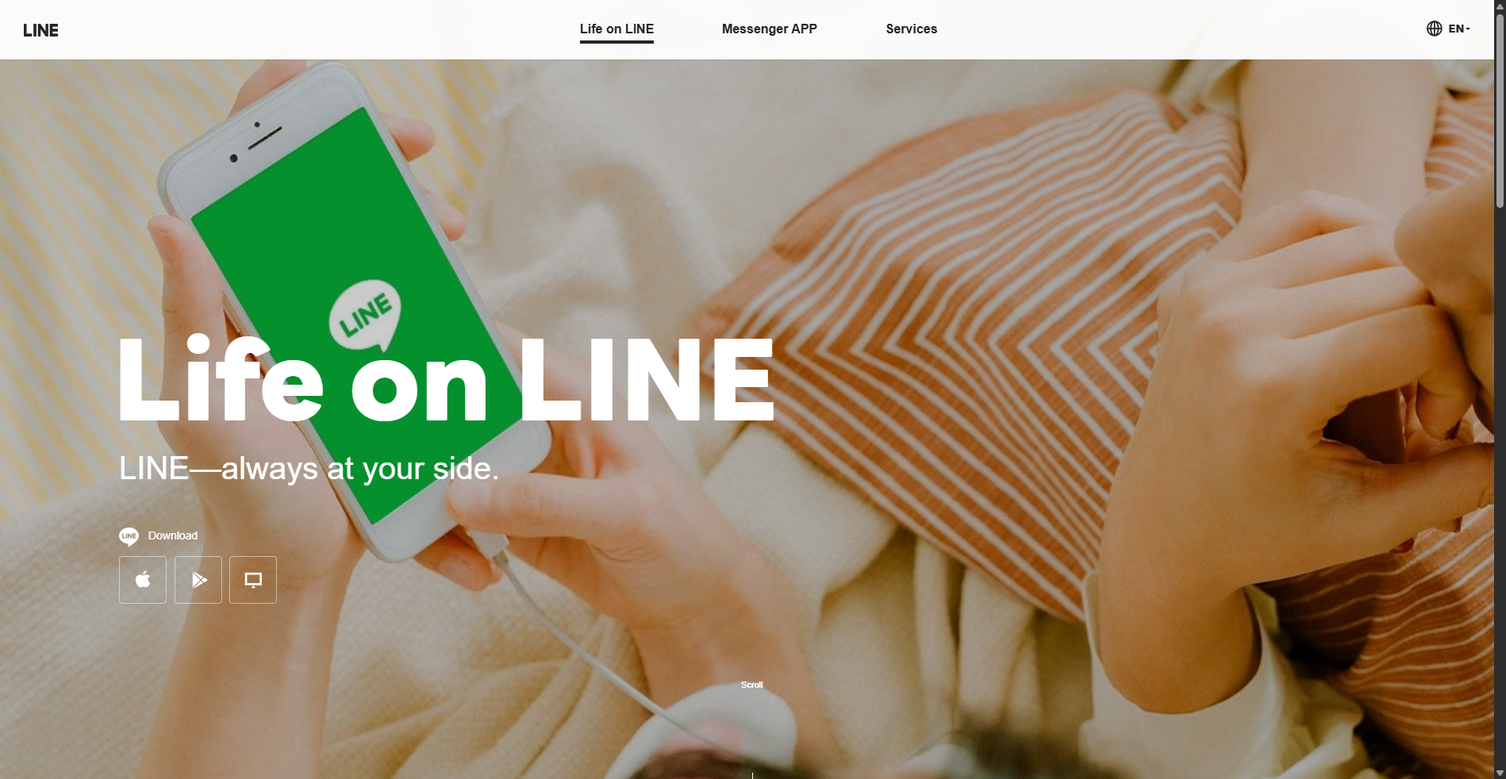general_image: (0, 0, 1506, 779), (128, 563, 301, 676), (149, 563, 322, 676), (166, 563, 339, 676), (24, 24, 58, 36), (119, 527, 139, 546), (1427, 21, 1443, 36)
general_link: (120, 557, 166, 603), (175, 557, 221, 603), (230, 557, 276, 603), (722, 22, 817, 36), (580, 22, 654, 36), (885, 22, 938, 36), (24, 24, 58, 36)
